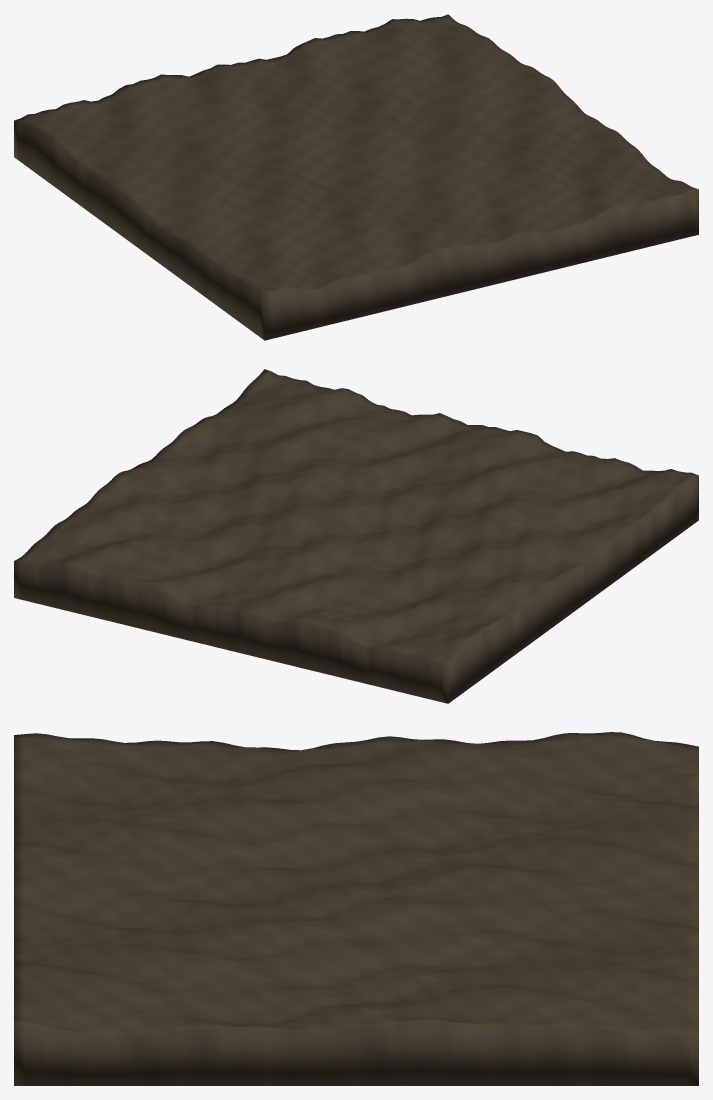
The model's file is fine-sediment-bed-v2.glb.
3 views of the same model, one above another, from view 1: azimuth 30°, elevation 25°; view 2: azimuth 150°, elevation 25°; view 3: azimuth 270°, elevation 25° (orthographic). The views are drawn at different scales.
Parts seen in each view (by area): view 1: fine-sediment-bed-v2; view 2: fine-sediment-bed-v2; view 3: fine-sediment-bed-v2.
Boxes of the visible parts, box(x1,y1,x2,y2) form: fine-sediment-bed-v2: box(14, 14, 698, 340); fine-sediment-bed-v2: box(14, 369, 698, 703); fine-sediment-bed-v2: box(14, 732, 698, 1085).
Size of the model in its own units: 2 by 0.214 by 2.
